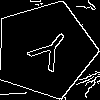Y: (20, 24, 76, 81)
